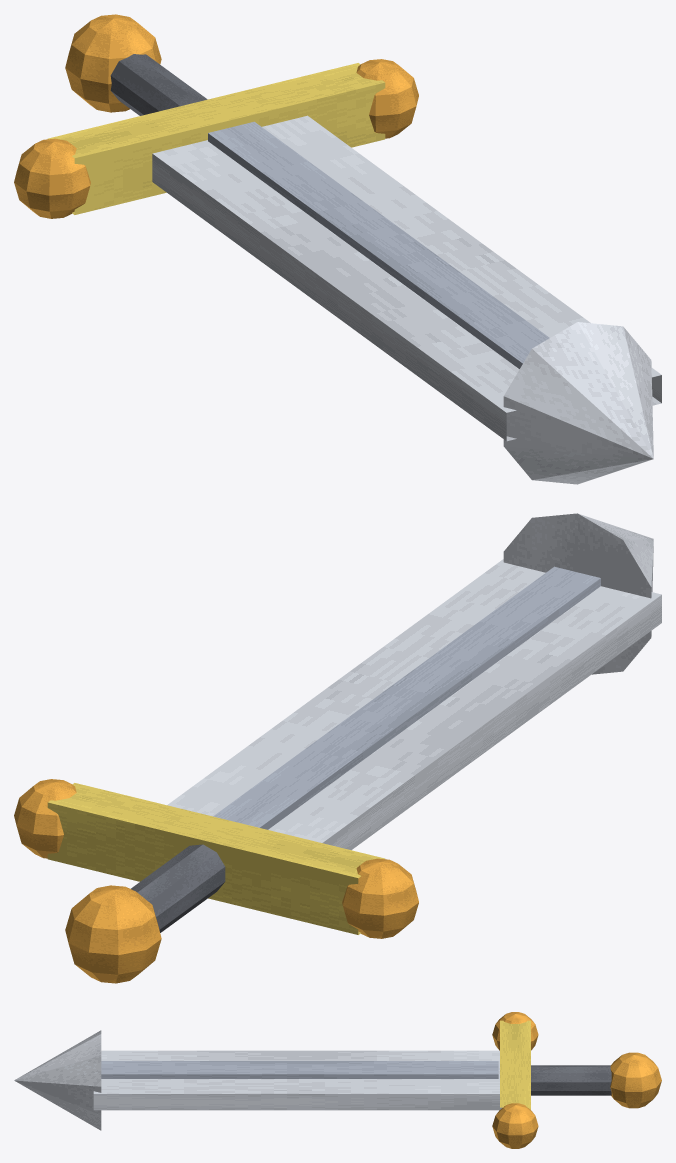
File: weapon_sword.glb
3 views of the same model, one above another, from view 1: azimuth 30°, elevation 25°; view 2: azimuth 150°, elevation 25°; view 3: azimuth 270°, elevation 25° (orthographic). The views are drawn at different scales.
Visible parts, largest first — view 1: weapon_sword; view 2: weapon_sword; view 3: weapon_sword.
Boxes of the visible parts, x1=… form: weapon_sword: x1=14, y1=14, x2=661, y2=484; weapon_sword: x1=14, y1=513, x2=661, y2=983; weapon_sword: x1=14, y1=1012, x2=661, y2=1148.
Bounding box in the file's own units: 1.01 × 0.4 × 2.52.
Materials: 1 (1 with a texture image).
